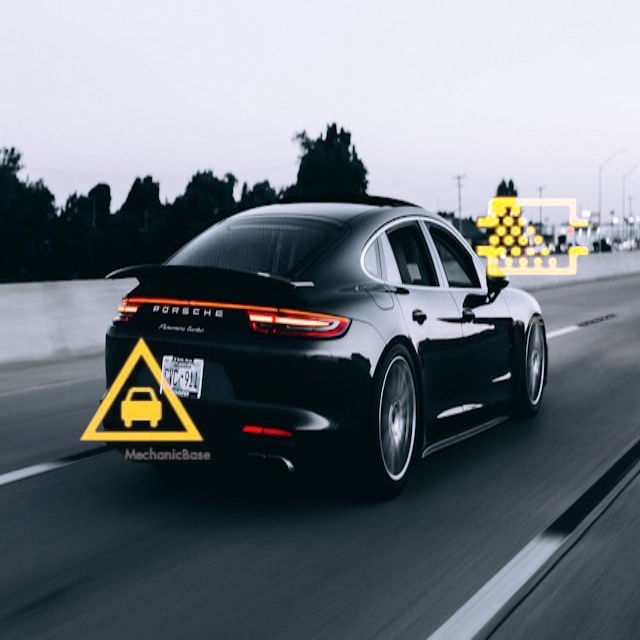symbol: (437, 141, 631, 335), (66, 317, 216, 467)
